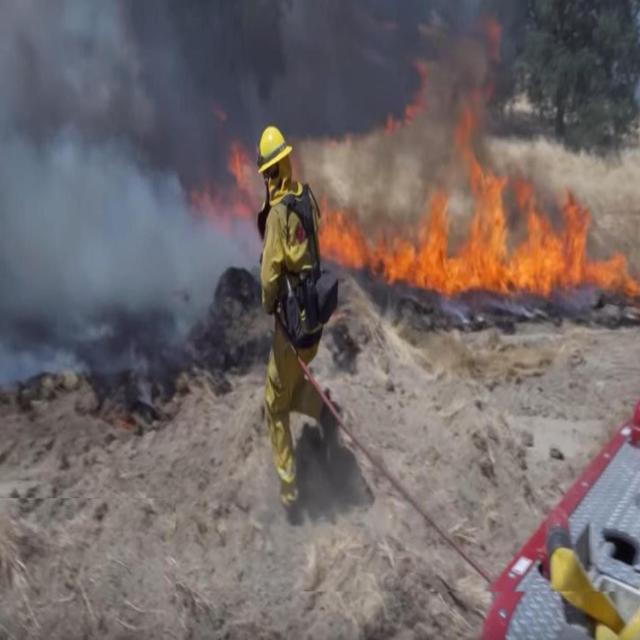fire: (319, 171, 640, 303)
smoke: (1, 4, 251, 359)
